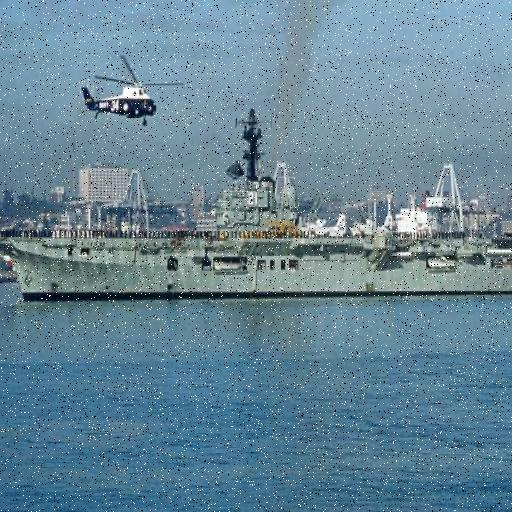Portanaves: (1, 115, 512, 314)
